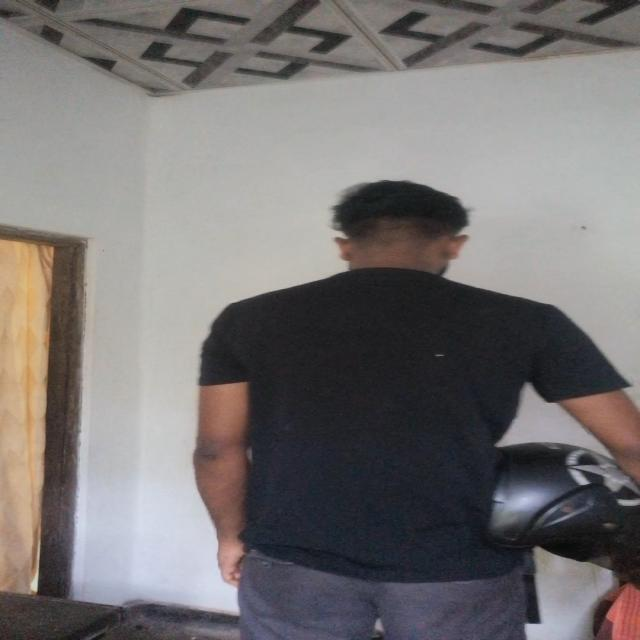Person: (198, 183, 640, 639)
